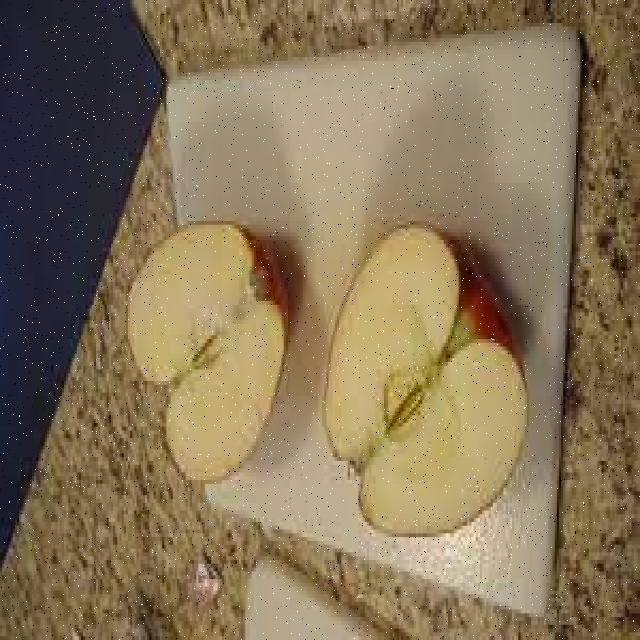Apple: (315, 219, 526, 542), (125, 217, 290, 483)
